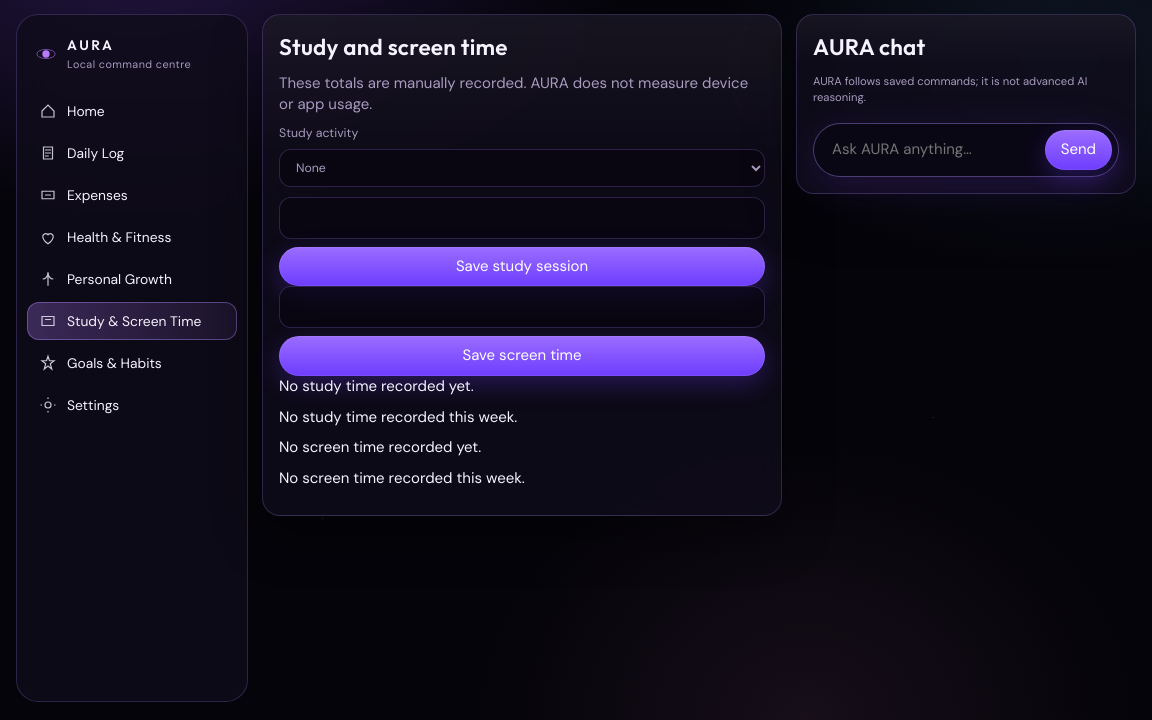
Test case: None on study activity does not create a session
Expected: the dropdown labelled "Study activity" shows "None", [279,149,765,187]
Type "40" into the field named "Study minutes" at (522, 218), box [279,197,765,239]
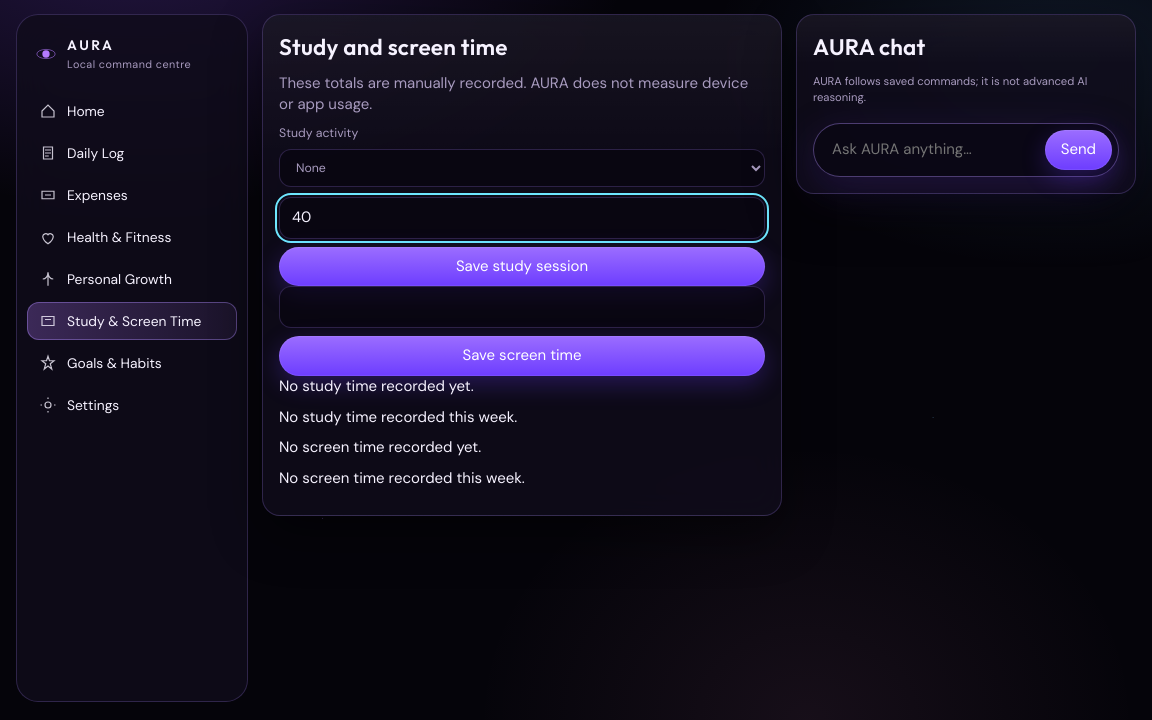
Click the button "Save study session" at (522, 267), box [279,247,765,286]
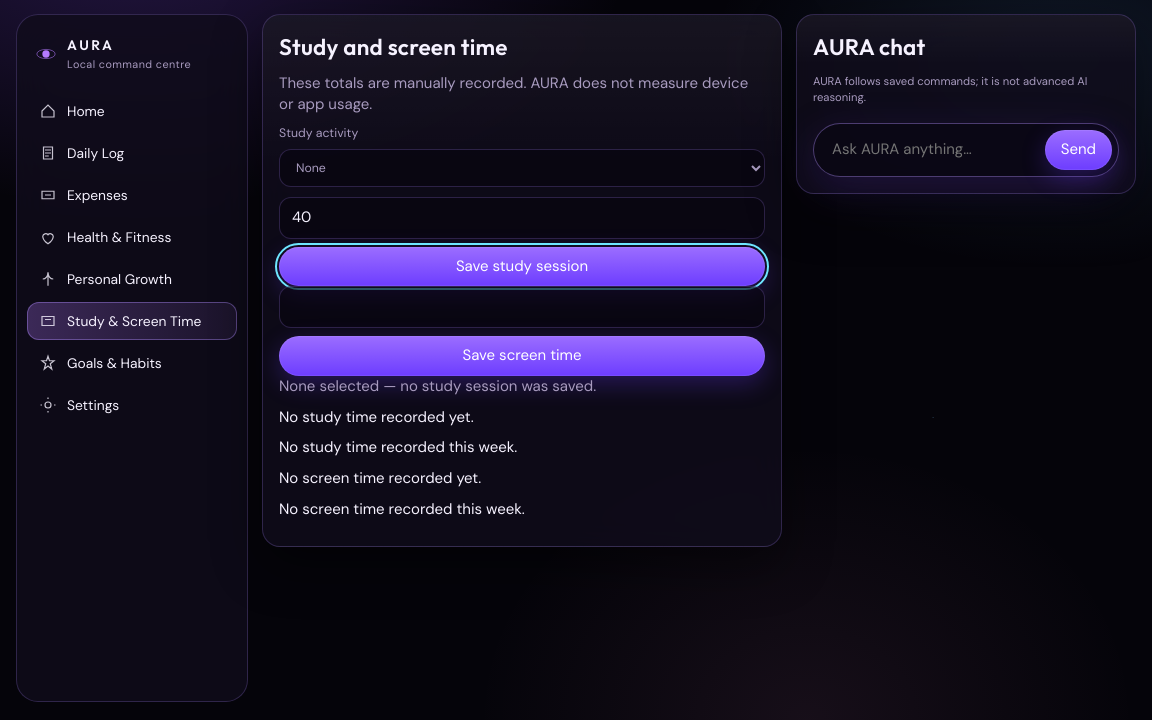
Expected: the text "None selected — no study session was saved." is shown, [279,376,596,396]
